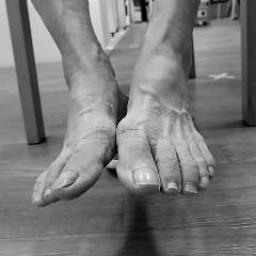Front View -Both Feet-: (18, 13, 232, 224)
